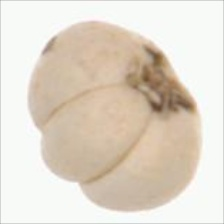L5: (39, 83, 152, 186), (123, 40, 200, 119)
L6: (24, 19, 204, 214)
